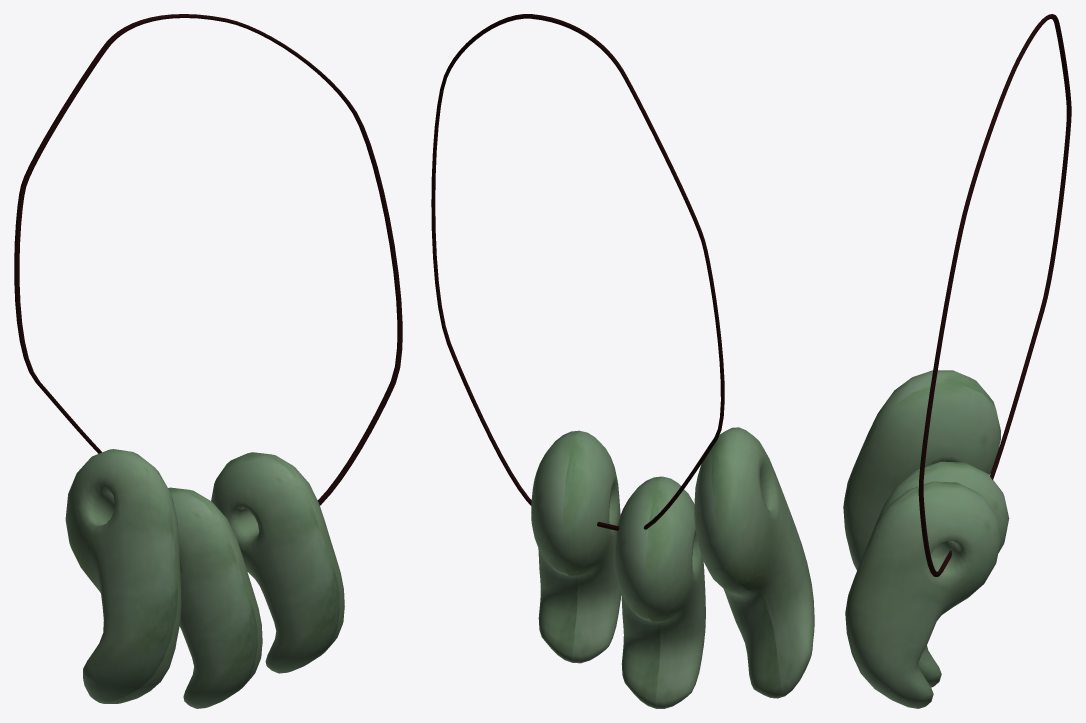
Rendered from Magatamahimo.fbx.
3 renders of one model, left to right at view 1: azimuth 30°, elevation 25°; view 2: azimuth 150°, elevation 25°; view 3: azimuth 270°, elevation 25°, orthographic. The views are drawn at different scales.
Visible parts, largest first — view 1: Magatama.002, Magatama, Magatama.001, BezierCurve; view 2: Magatama.002, Magatama.001, Magatama, BezierCurve; view 3: Magatama, Magatama.002, BezierCurve, Magatama.001.
Boxes of the visible parts, <box> form: Magatama.002: <box>65,449,181,703</box>; Magatama: <box>211,452,344,673</box>; Magatama.001: <box>168,487,262,708</box>; BezierCurve: <box>14,14,402,505</box>; Magatama.002: <box>694,427,814,698</box>; Magatama.001: <box>614,476,705,708</box>; Magatama: <box>531,430,621,663</box>; BezierCurve: <box>431,14,724,530</box>; Magatama: <box>845,481,1000,708</box>; Magatama.002: <box>843,370,1000,570</box>; BezierCurve: <box>918,14,1071,576</box>; Magatama.001: <box>871,461,1009,687</box>.
Bounding box in the file's own units: 255 × 480 × 147.
